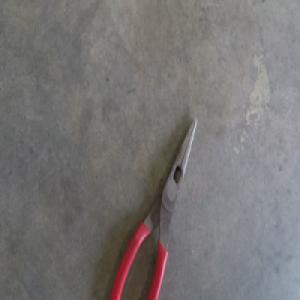Pliers: (108, 117, 197, 298)
